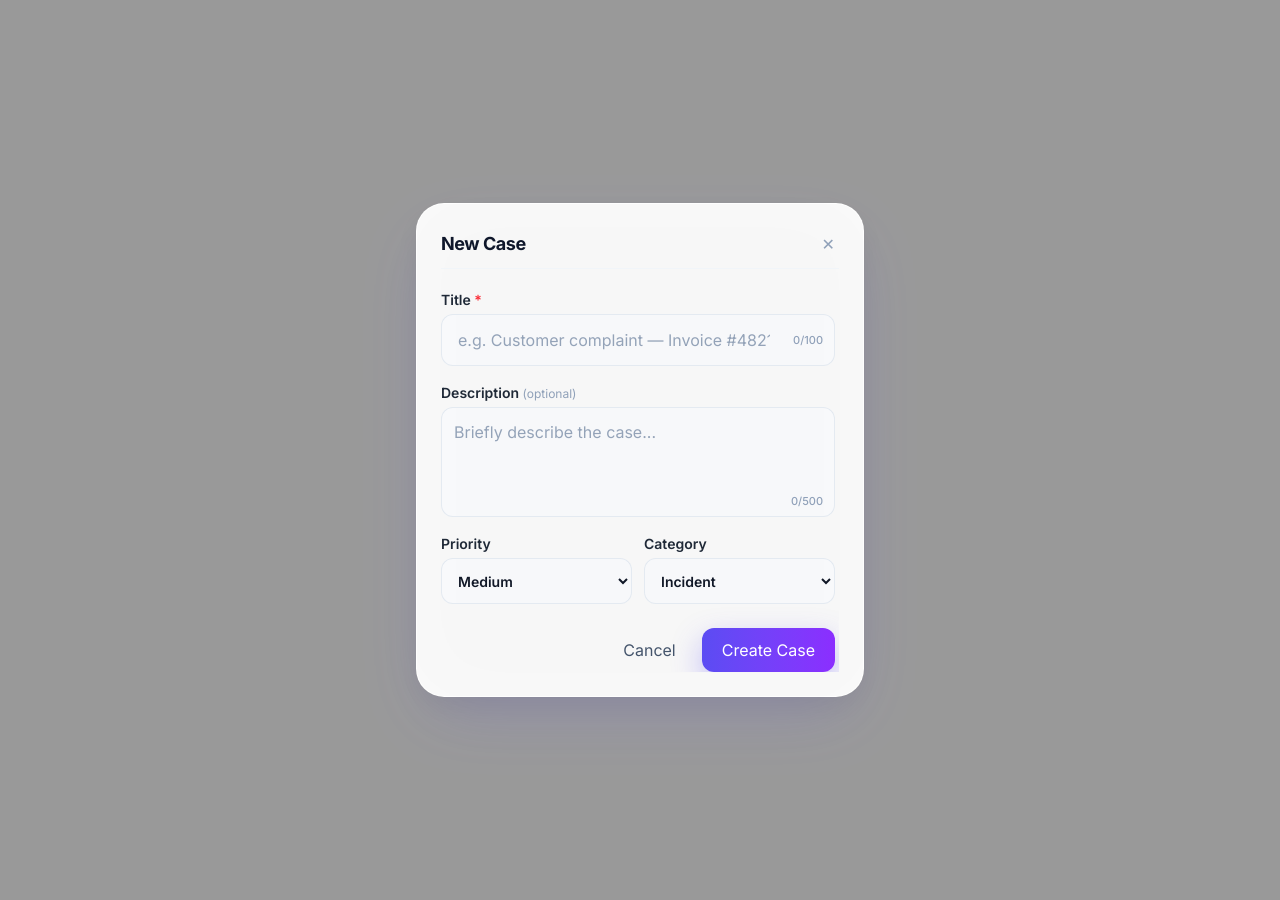
CreateCaseModal — validation › shows error when submitting with empty title
The width and height of the screenshot is (1280, 900).
Click the button "Create Case" at (768, 650), box [702,628,835,672]
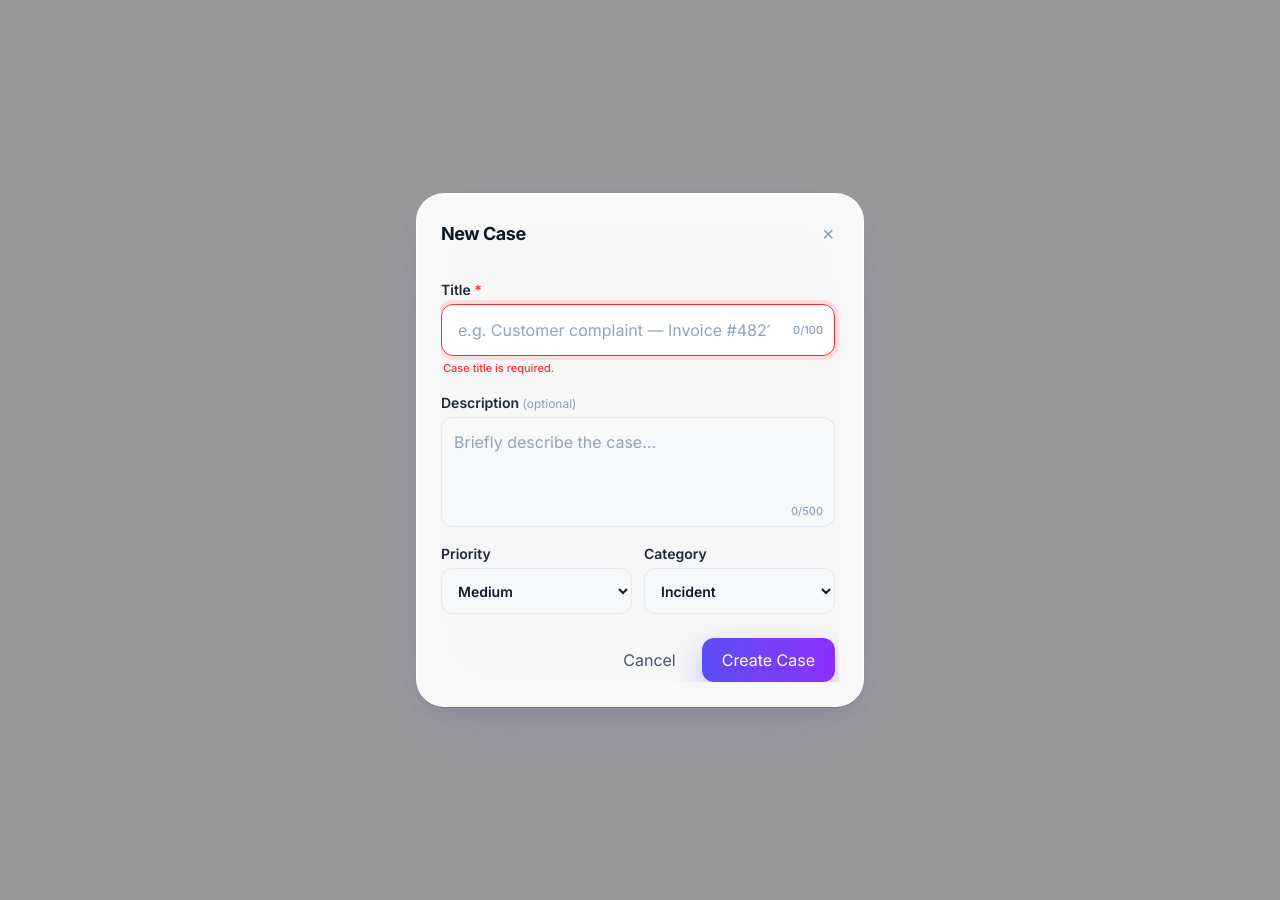
Expected: the message reads "Case title is required.", [443,361,554,375]
